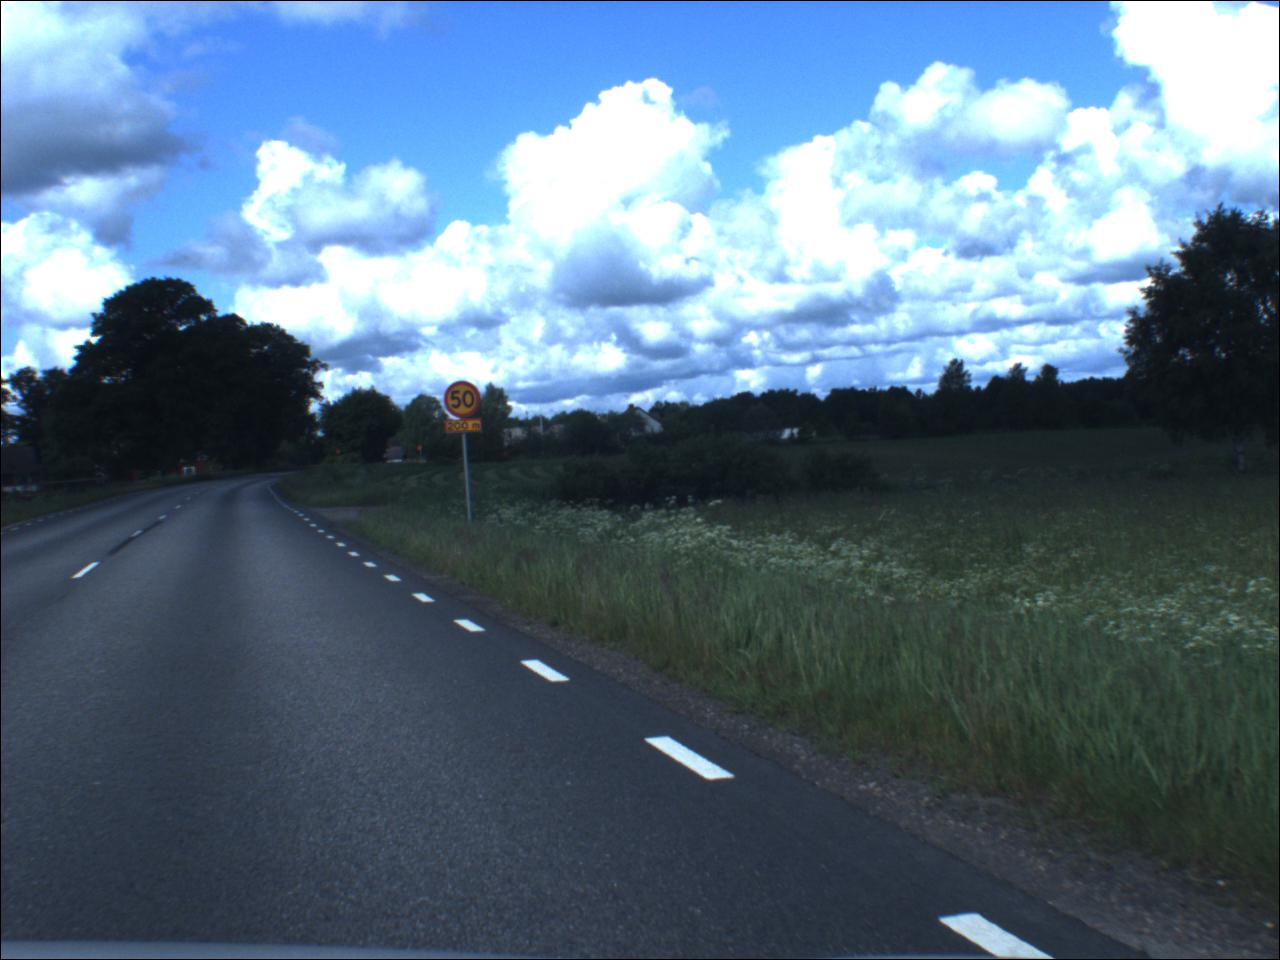50_SIGN: (445, 382, 485, 418)
